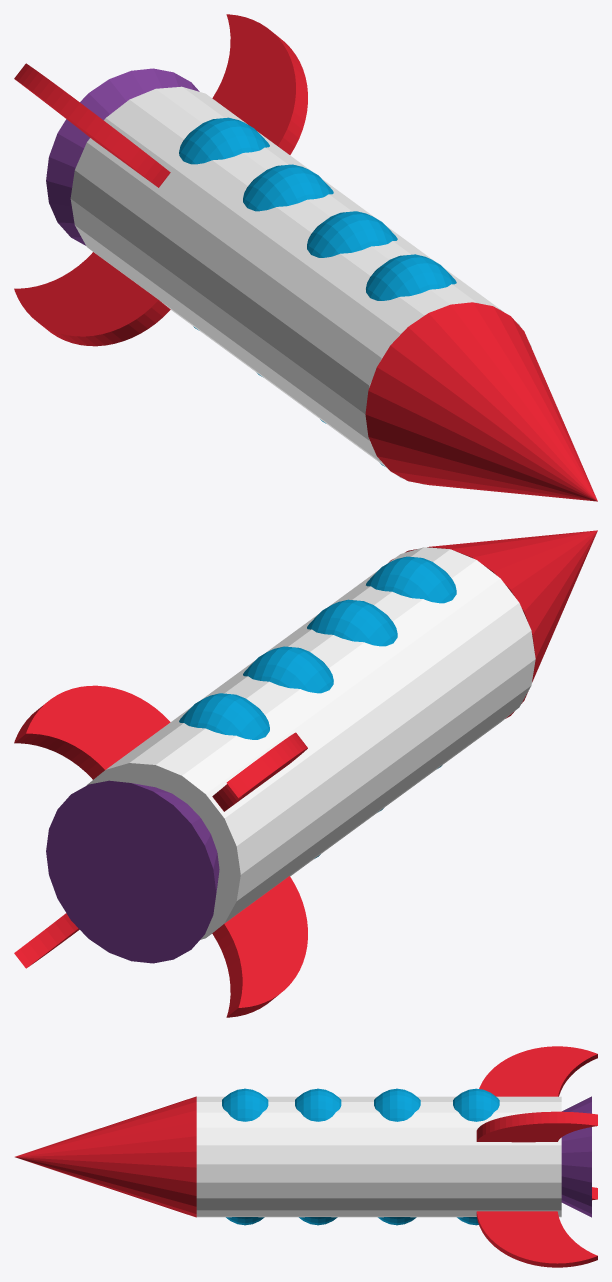
The model's file is tinker.obj.
3 renders of one model, top to bottom at view 1: azimuth 30°, elevation 25°; view 2: azimuth 150°, elevation 25°; view 3: azimuth 270°, elevation 25°, orthographic. The views are drawn at different scales.
Parts seen in each view (by area): view 1: group_0_16448250, group_0_15277357, group_0_40919, group_0_8273816; view 2: group_0_16448250, group_0_15277357, group_0_8273816, group_0_40919; view 3: group_0_16448250, group_0_15277357, group_0_40919, group_0_8273816.
Part boxes in pixels (x1=…): group_0_16448250: x1=70, y1=86, x2=531, y2=484; group_0_15277357: x1=14, y1=14, x2=597, y2=501; group_0_40919: x1=179, y1=117, x2=456, y2=466; group_0_8273816: x1=46, y1=68, x2=199, y2=245; group_0_16448250: x1=86, y1=547, x2=535, y2=939; group_0_15277357: x1=14, y1=530, x2=597, y2=1017; group_0_8273816: x1=46, y1=780, x2=219, y2=963; group_0_40919: x1=179, y1=556, x2=456, y2=858; group_0_16448250: x1=196, y1=1096, x2=561, y2=1217; group_0_15277357: x1=15, y1=1046, x2=597, y2=1267; group_0_40919: x1=222, y1=1088, x2=499, y2=1225; group_0_8273816: x1=561, y1=1096, x2=591, y2=1217.
Bounding box in the file's own units: 28.28 × 28.28 × 96.
